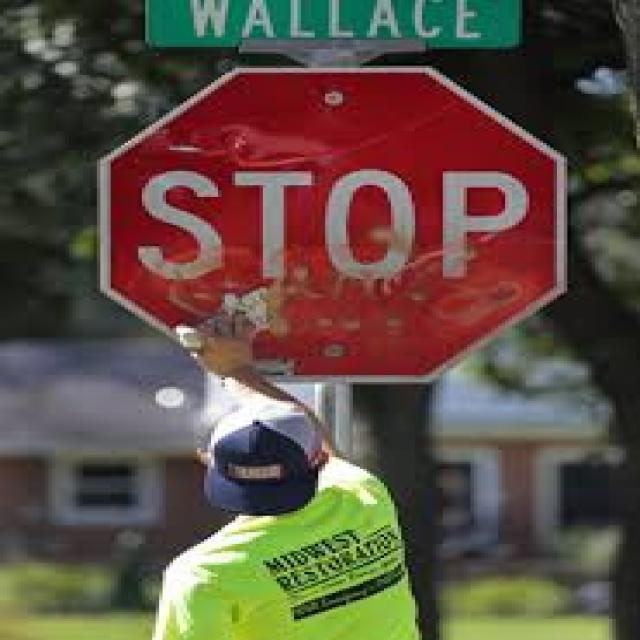stop-sign: (75, 128, 586, 329)
